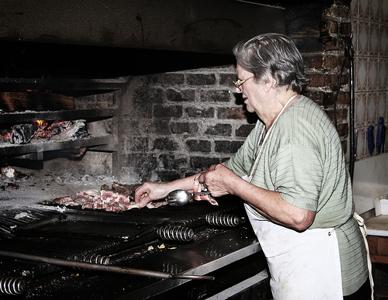person: (135, 34, 376, 300)
